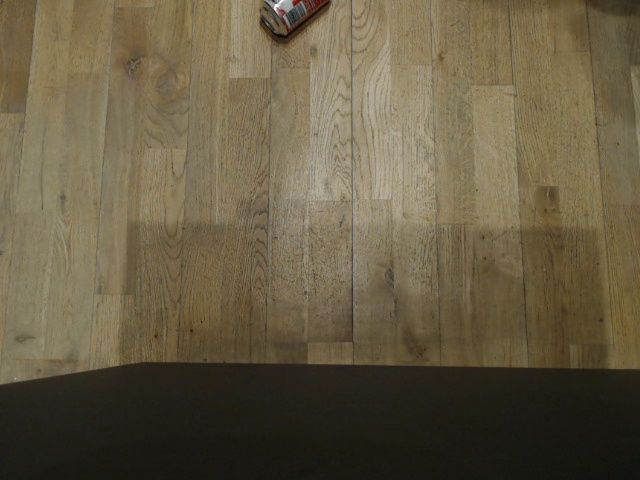cola: (255, 0, 330, 37)
